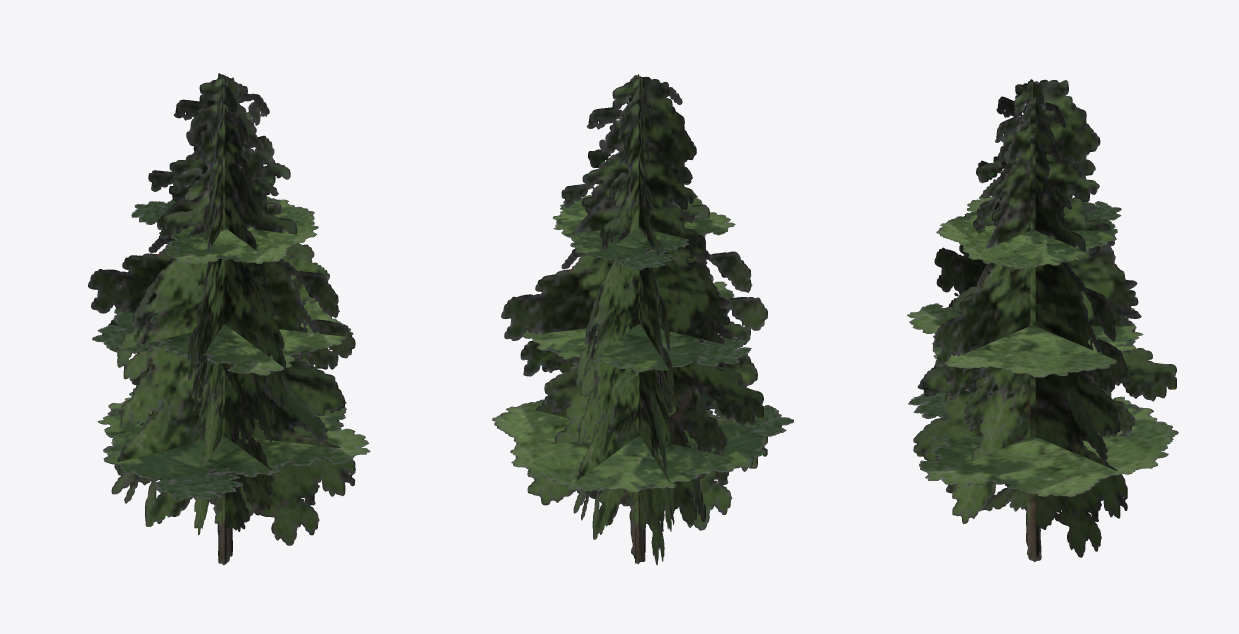
The picture shows the model from 3 angles, left to right: view 1: azimuth 30°, elevation 25°; view 2: azimuth 150°, elevation 25°; view 3: azimuth 270°, elevation 25°; orthographic projection.
Visible parts, largest first — view 1: Mesh_0.007; view 2: Mesh_0.007; view 3: Mesh_0.007.
Boxes of the visible parts, x1,y1,x2,y2 form: Mesh_0.007: (88, 73, 370, 564); Mesh_0.007: (492, 74, 793, 565); Mesh_0.007: (907, 79, 1178, 561).
Bounding box in the file's own units: 10.12 × 13.78 × 9.79.
Materials: 1 (1 with a texture image).
